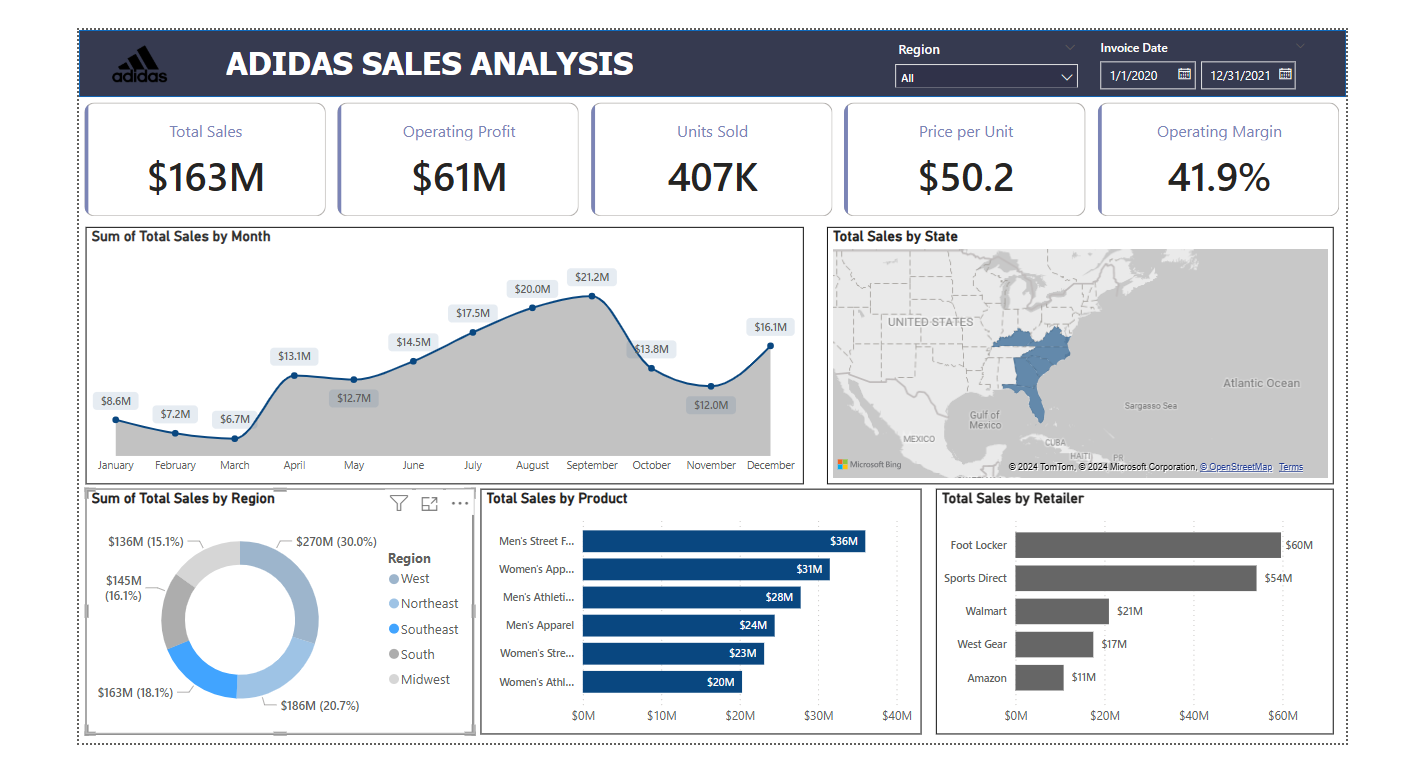

This screenshot's page, from the dashboard's own definition file:
{"tool":"powerbi","page":{"name":"Adidas Dashboard","canvas":[1280,720],"ordinal":0},"visuals":[{"type":"shape","box":[0,0,1280,67.8],"z":0},{"type":"textbox","box":[143.3,7.8,431.1,52.2],"z":1000},{"type":"image","box":[24.4,10,74.4,47.8],"z":2000},{"type":"cardVisual","fields":{"Data":["Sum(Data Sales Adidas.Total Sales)","Sum(Data Sales Adidas.Operating Profit)","Sum(Data Sales Adidas.Units Sold)","Avg(Data Sales Adidas.Price per Unit)","Avg(Data Sales Adidas.Operating Margin)"]},"box":[0,67.8,1280,125.6],"z":3000},{"type":"areaChart","fields":{"Category":["Data Sales Adidas.Invoice Date.Variation.Date Hierarchy.Month"],"Y":["Sum(Data Sales Adidas.Total Sales)"]},"box":[6.7,198.9,725.6,260],"z":4000},{"type":"filledMap","title":"Total Sales by State","fields":{"Category":["Data Sales Adidas.State"],"Y":["Sum(Data Sales Adidas.Total Sales)"]},"box":[755.6,198.9,512.2,260],"z":5000},{"type":"donutChart","fields":{"Category":["Data Sales Adidas.Region"],"Y":["Sum(Data Sales Adidas.Total Sales)"]},"box":[6.7,463.3,392.2,247.8],"z":6000},{"type":"barChart","title":"Total Sales by Product","fields":{"Category":["Data Sales Adidas.Product"],"Y":["Sum(Data Sales Adidas.Total Sales)"]},"box":[405.6,463.3,445.6,247.8],"z":7000},{"type":"barChart","title":"Total Sales by Retailer","fields":{"Y":["Sum(Data Sales Adidas.Total Sales)"],"Category":["Data Sales Adidas.Retailer"]},"box":[865.6,463.3,402.2,247.8],"z":8000},{"type":"slicer","fields":{"Values":["Data Sales Adidas.Region"]},"box":[814.4,4.4,204.4,53.3],"z":9000},{"type":"slicer","fields":{"Values":["Data Sales Adidas.Invoice Date"]},"box":[1018.9,4.4,232.2,60],"z":10000}]}

Visuals, with their boxes on the page's 1280x720 design canvas (x1, y1, x2, y2). These are canvas units, not pixel positions in the 1418x773 screenshot, which may show the page scaled, cropped or inside an application window:
shape: x1=0 y1=0 x2=1280 y2=68
textbox: x1=143 y1=8 x2=574 y2=60
image: x1=24 y1=10 x2=99 y2=58
cardVisual - Sum(Data Sales Adidas.Total Sales) x Sum(Data Sales Adidas.Operating Profit): x1=0 y1=68 x2=1280 y2=193
areaChart - Data Sales Adidas.Invoice Date.Variation.Date Hierarchy.Month x Sum(Data Sales Adidas.Total Sales): x1=7 y1=199 x2=732 y2=459
"Total Sales by State" filledMap: x1=756 y1=199 x2=1268 y2=459
donutChart - Data Sales Adidas.Region x Sum(Data Sales Adidas.Total Sales): x1=7 y1=463 x2=399 y2=711
"Total Sales by Product" barChart: x1=406 y1=463 x2=851 y2=711
"Total Sales by Retailer" barChart: x1=866 y1=463 x2=1268 y2=711
slicer - Data Sales Adidas.Region: x1=814 y1=4 x2=1019 y2=58
slicer - Data Sales Adidas.Invoice Date: x1=1019 y1=4 x2=1251 y2=64
